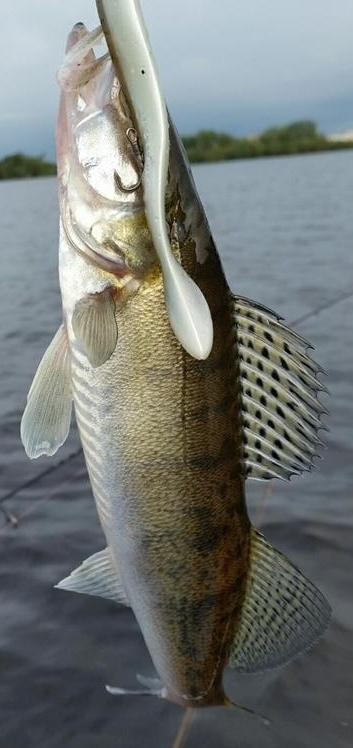Sander lucioperca: (20, 20, 333, 728)
